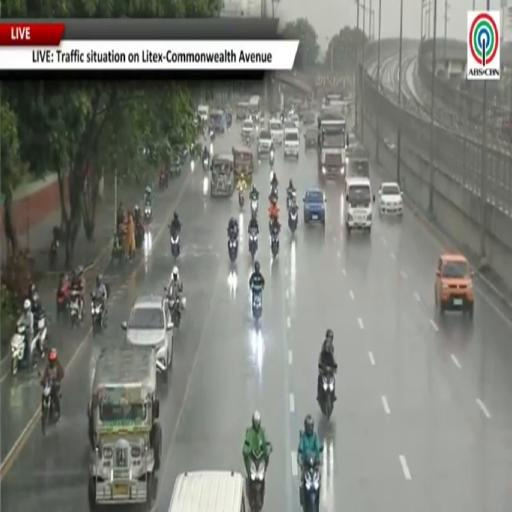car: (122, 295, 173, 380), (435, 253, 474, 317), (344, 178, 375, 234), (303, 189, 326, 225), (378, 183, 402, 216), (284, 128, 299, 158), (258, 130, 272, 155), (270, 119, 283, 145), (304, 127, 318, 151), (242, 118, 254, 137), (302, 110, 316, 126), (198, 105, 209, 123), (348, 133, 360, 148), (289, 115, 299, 129), (284, 120, 296, 130)
jeepney: (88, 345, 161, 510), (210, 154, 235, 197), (233, 146, 253, 184), (346, 146, 369, 179), (210, 109, 226, 133), (236, 102, 248, 120)
motorcycle: (11, 318, 46, 375), (248, 443, 272, 511), (300, 454, 320, 511), (42, 379, 58, 435), (319, 368, 335, 420), (165, 287, 185, 328), (11, 325, 26, 375), (91, 293, 104, 335), (56, 285, 70, 320), (69, 290, 80, 327), (111, 234, 124, 263), (169, 299, 181, 328), (252, 290, 262, 322), (49, 238, 59, 269), (170, 232, 180, 259), (135, 221, 145, 248), (288, 206, 298, 233), (249, 230, 258, 259), (228, 237, 238, 263), (271, 230, 279, 257), (287, 191, 296, 210), (144, 202, 152, 221), (159, 172, 167, 189), (270, 184, 278, 200), (251, 199, 258, 217), (239, 189, 244, 207), (203, 156, 209, 171), (209, 128, 215, 141), (270, 150, 274, 168), (244, 135, 250, 146)
truck: (318, 109, 348, 178), (249, 95, 261, 123)
